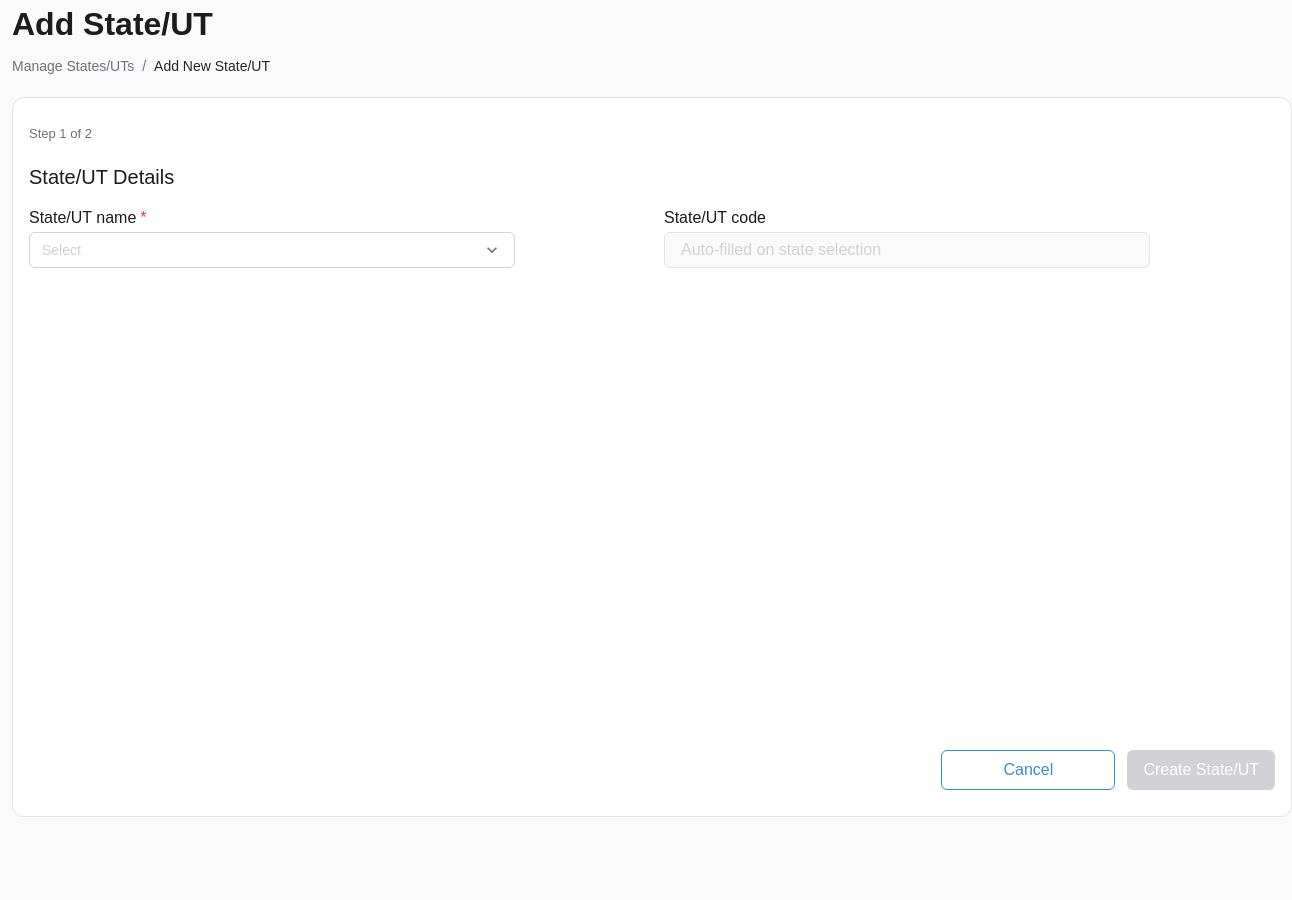
Test: AddStateUTPage › Step 2 — Admin invite › renders step 2 of 2 indicator
Click the dropdown named "state/ut name": (61, 250) [29,232,515,268]
(page scrolled)
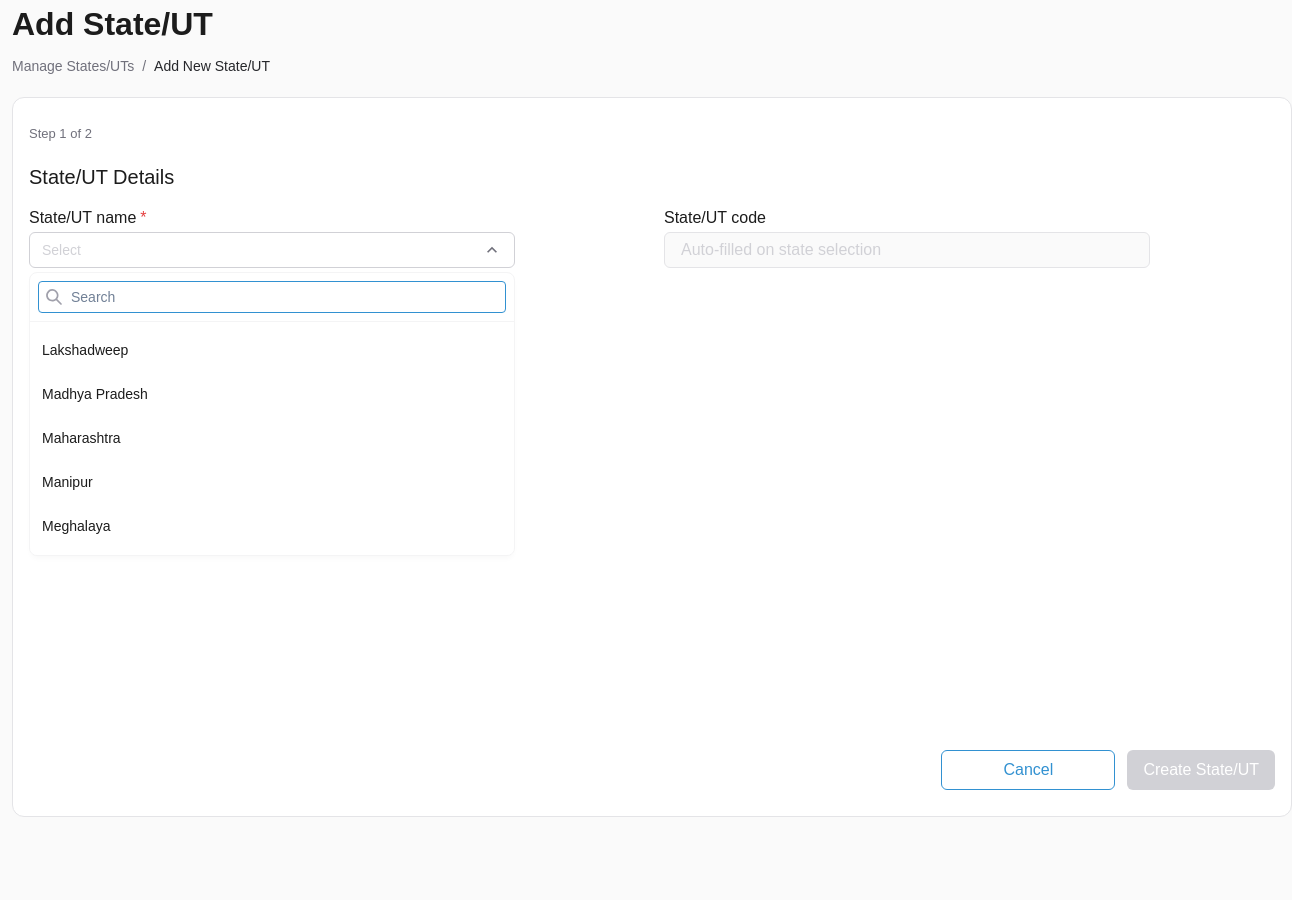
Click the option "Maharashtra": (81, 438) [30,416,514,460]
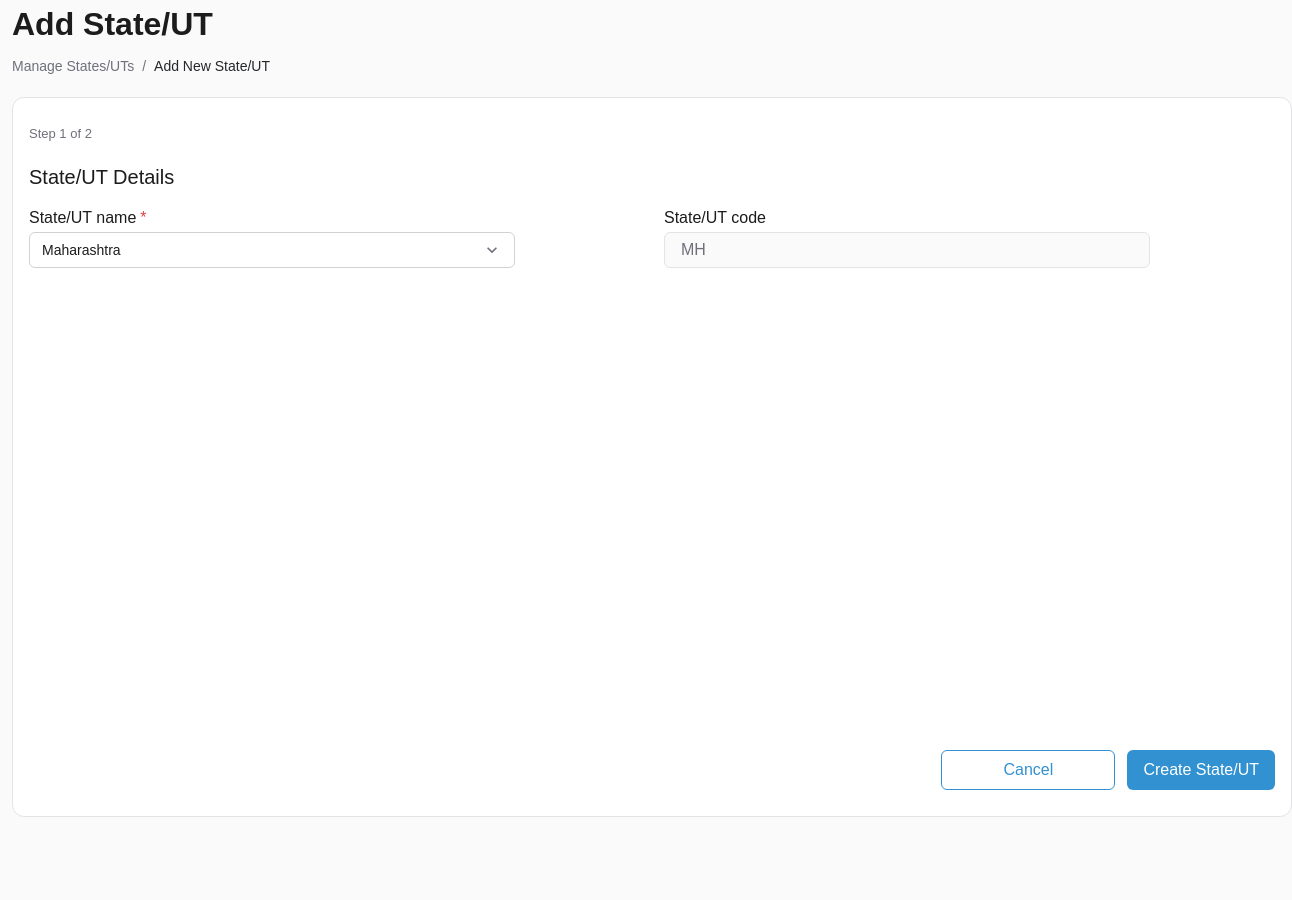
Click the button "Create State/UT": (1201, 770) [1127,750,1275,790]
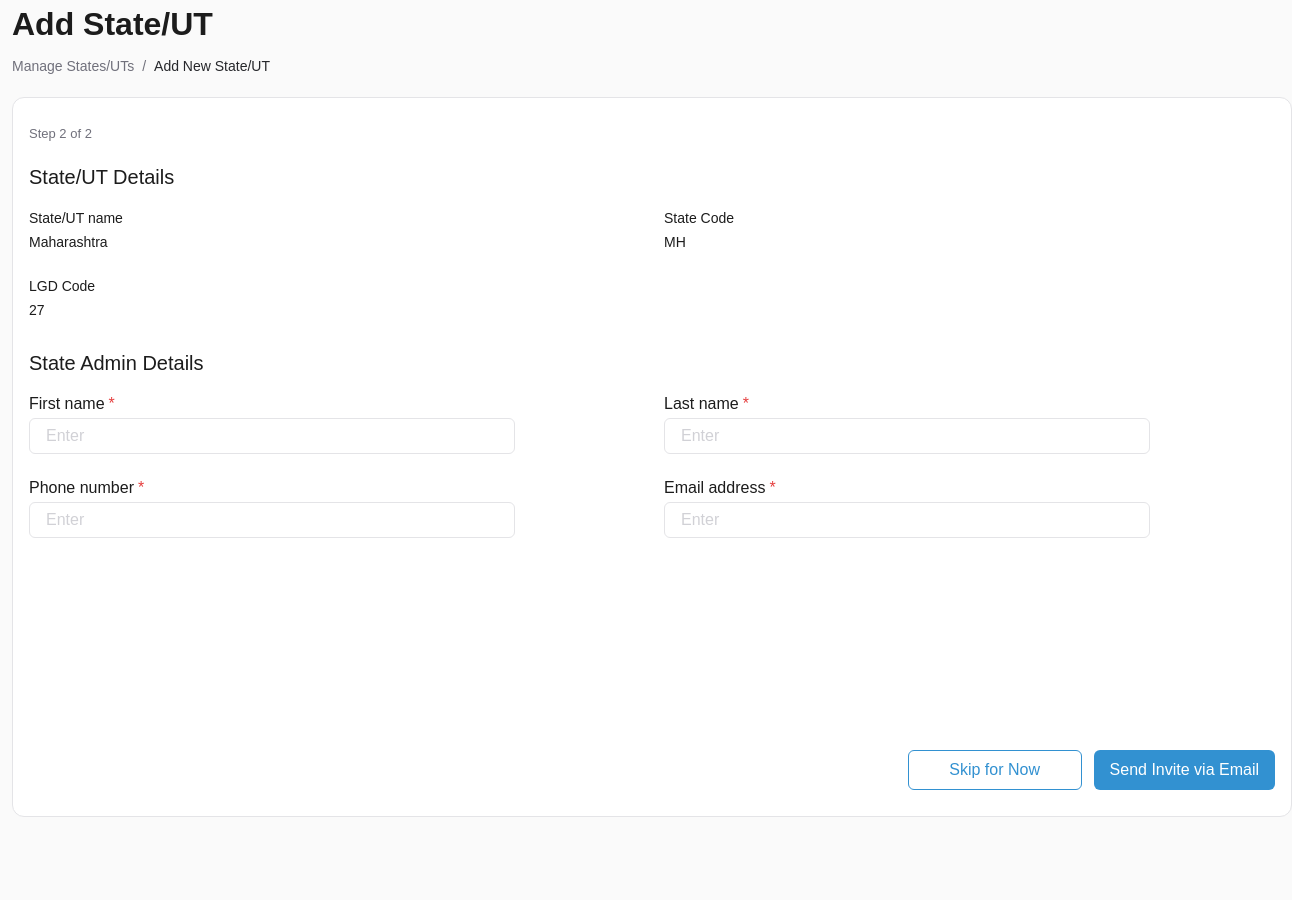
Result: the text "Step 2 of 2" is shown at [29,126,92,141]
